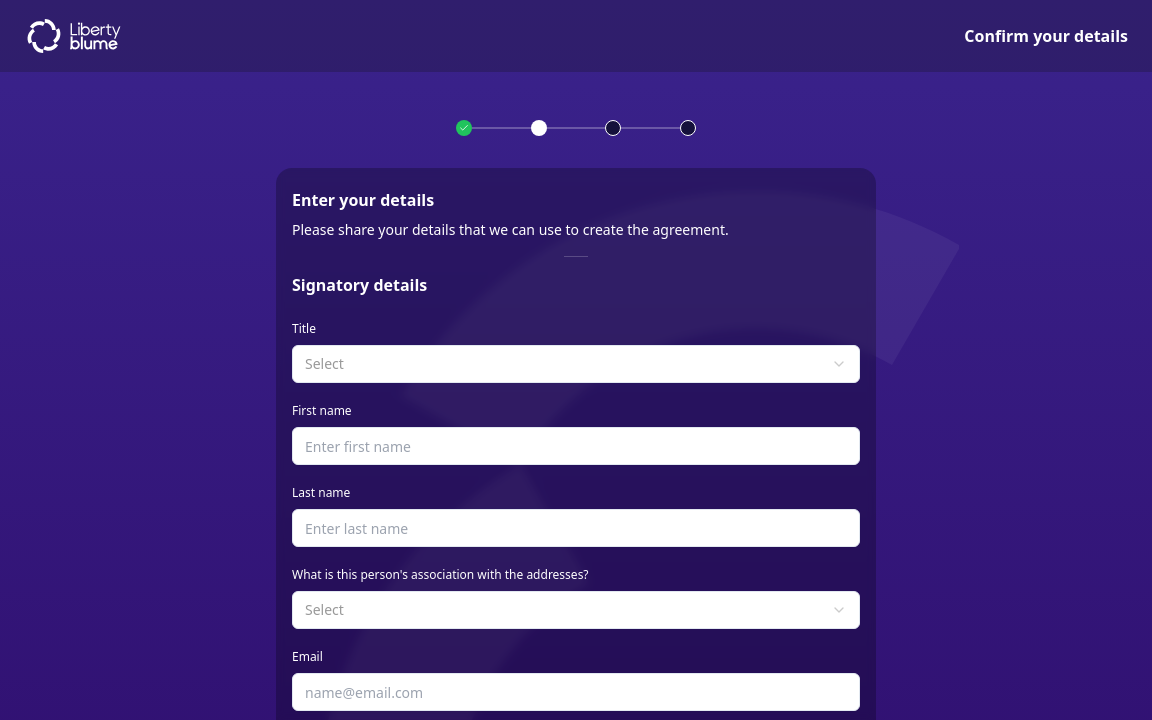
Test: AddAuthorizedSign › form validation › shows requiredFieldsError when first name is missing
Press the mouse on the dropdown labelled "Select" below "Title" at {"x": 324, "y": 364}, box x1=292 y1=345 x2=860 y2=383
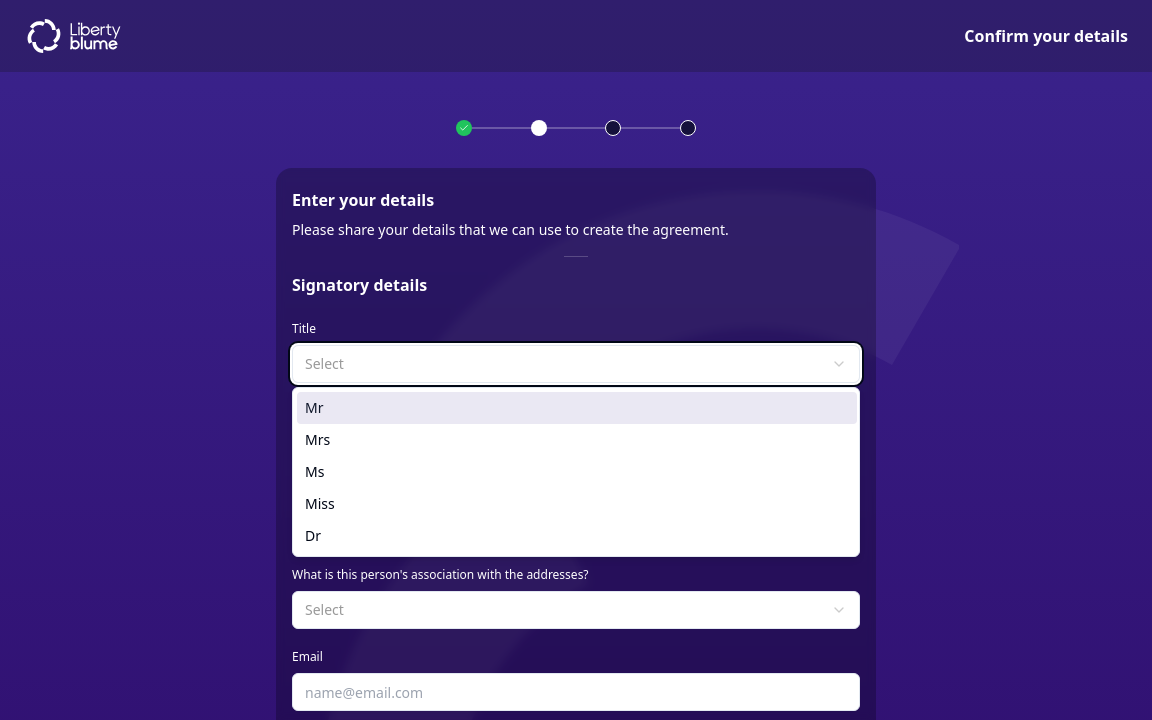
Click the option "Mr" at {"x": 314, "y": 408}, box x1=297 y1=392 x2=857 y2=424
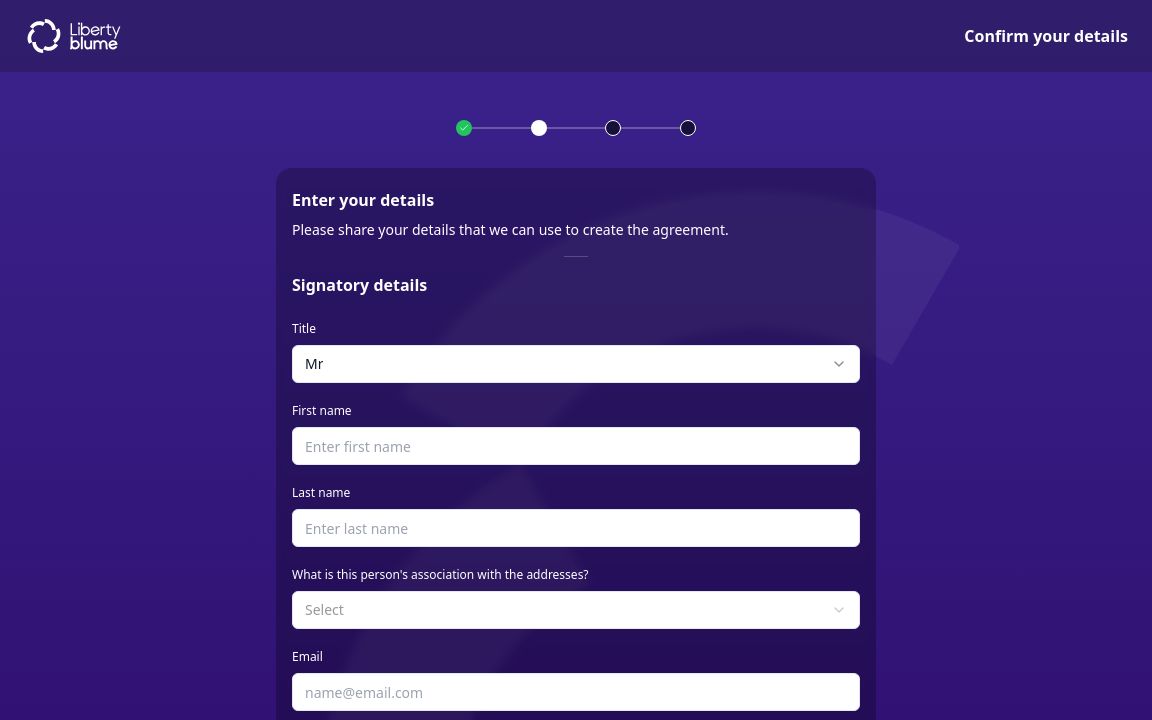
Type "Doe" into the field with placeholder "Enter last name" at {"x": 576, "y": 528}, box x1=292 y1=509 x2=860 y2=547
(page scrolled)
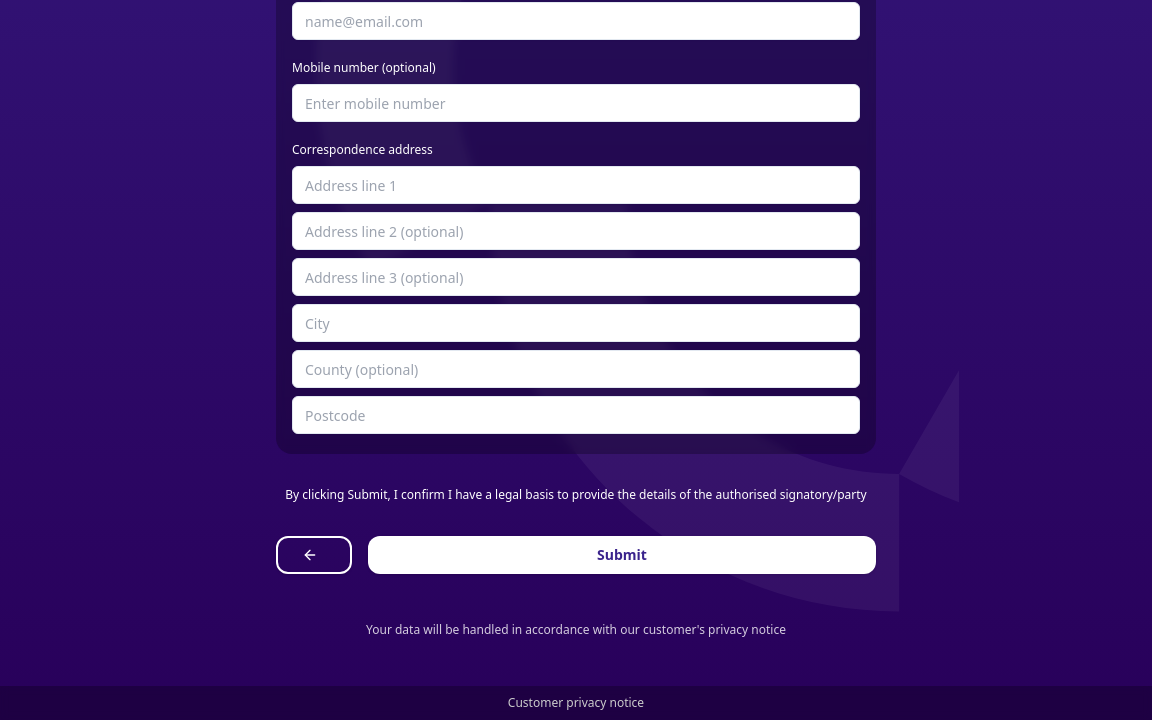
Click the button "Submit" at {"x": 622, "y": 555}, box x1=368 y1=536 x2=876 y2=574
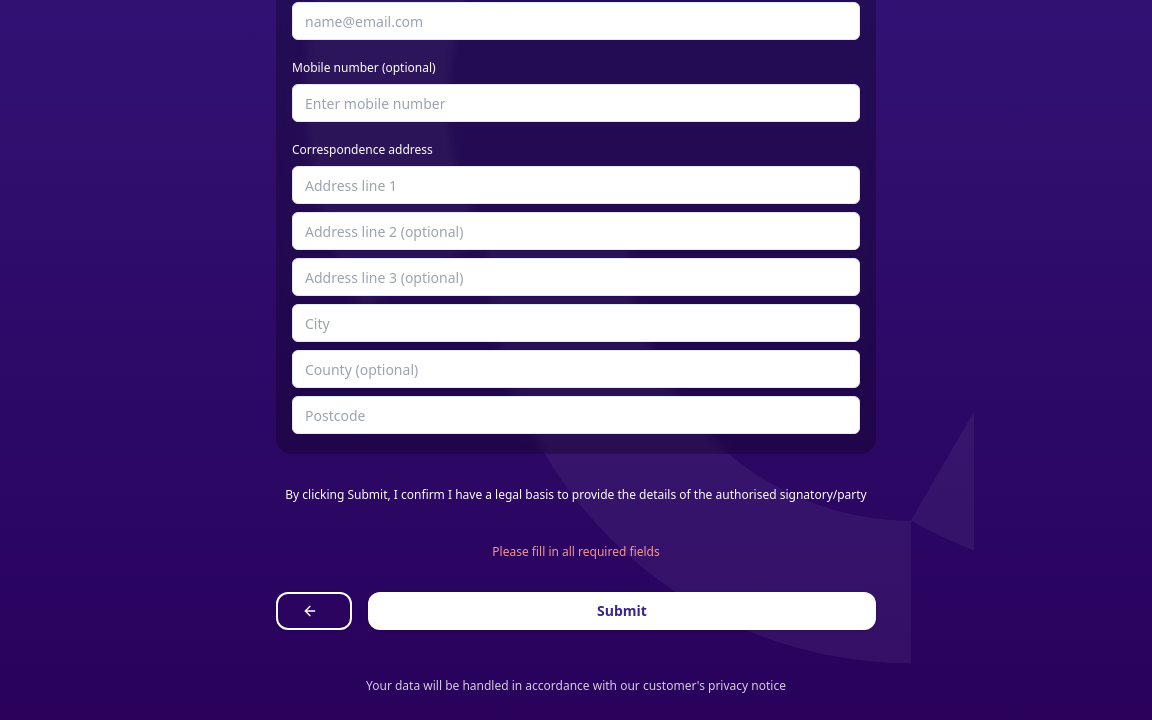
Expected: the text "Please fill in all required fields" is shown, x1=492 y1=543 x2=660 y2=560
